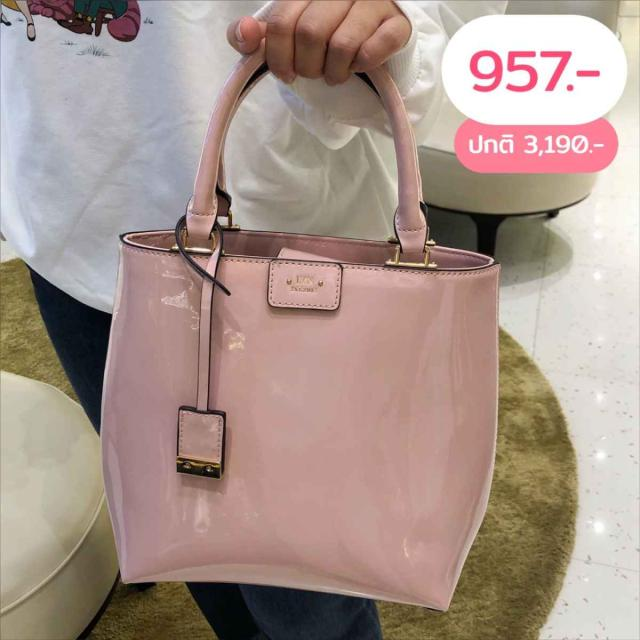Handbag: (90, 177, 520, 616)
